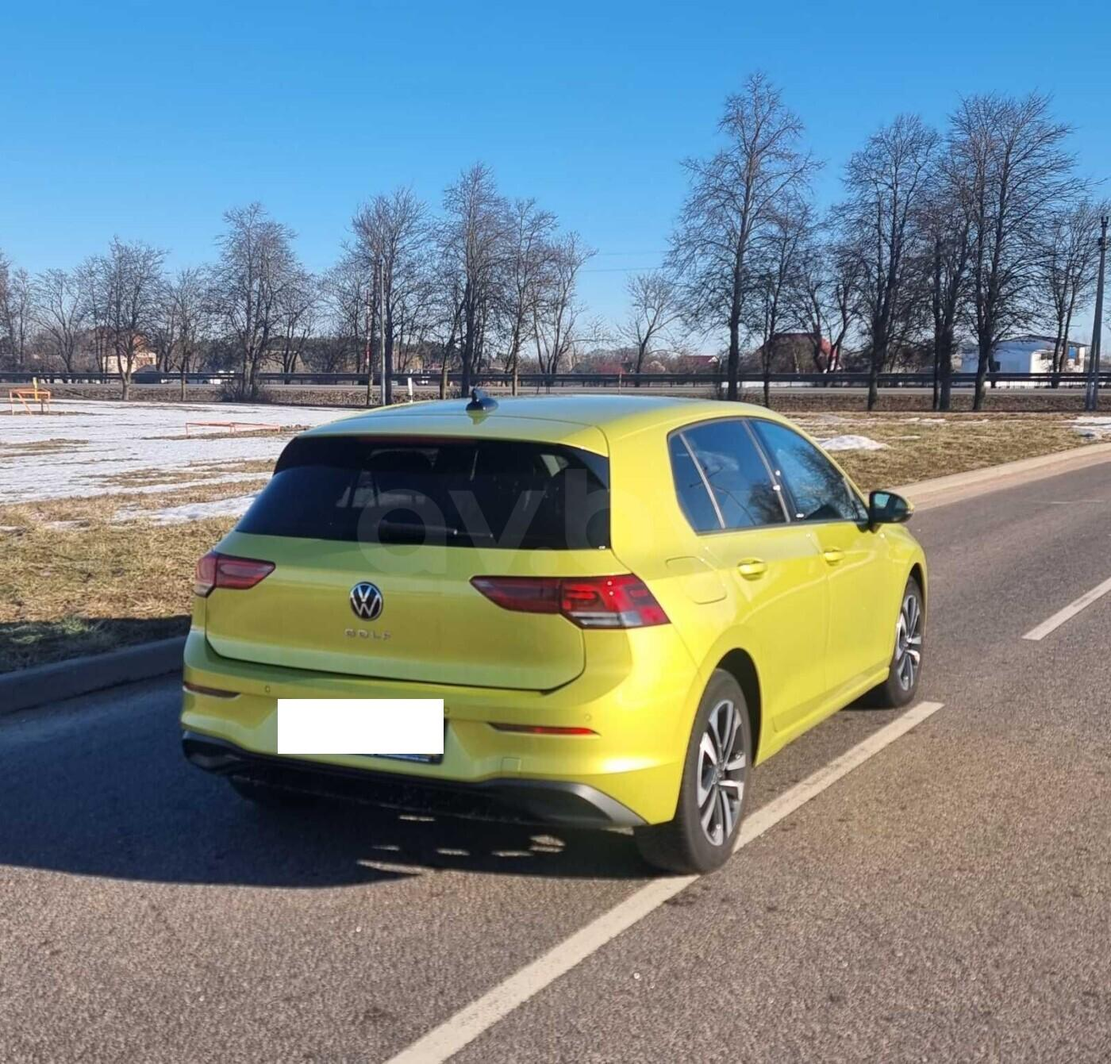Golf_2019: (180, 389, 942, 875)
